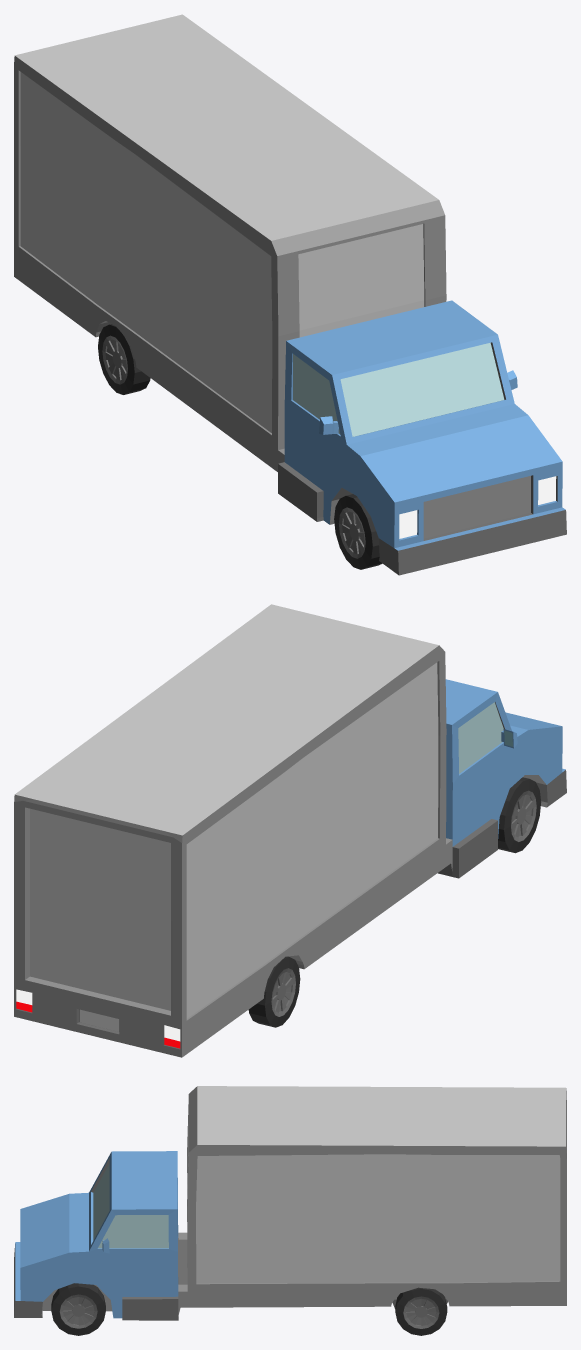
Rendered from truck.glb.
The picture shows the model from 3 angles, top to bottom: view 1: azimuth 30°, elevation 25°; view 2: azimuth 150°, elevation 25°; view 3: azimuth 270°, elevation 25°; orthographic projection. The views are drawn at different scales.
Visible parts, largest first — view 1: Truck-col; view 2: Truck-col, EasterDoors; view 3: Truck-col.
Part boxes in pixels (x1=…): Truck-col: x1=14, y1=14, x2=566, y2=575; Truck-col: x1=14, y1=604, x2=566, y2=1057; EasterDoors: x1=30, y1=808, x2=170, y2=1010; Truck-col: x1=14, y1=1086, x2=566, y2=1335.
Size of the model in its own units: 1.31 by 1.71 by 4.48.
